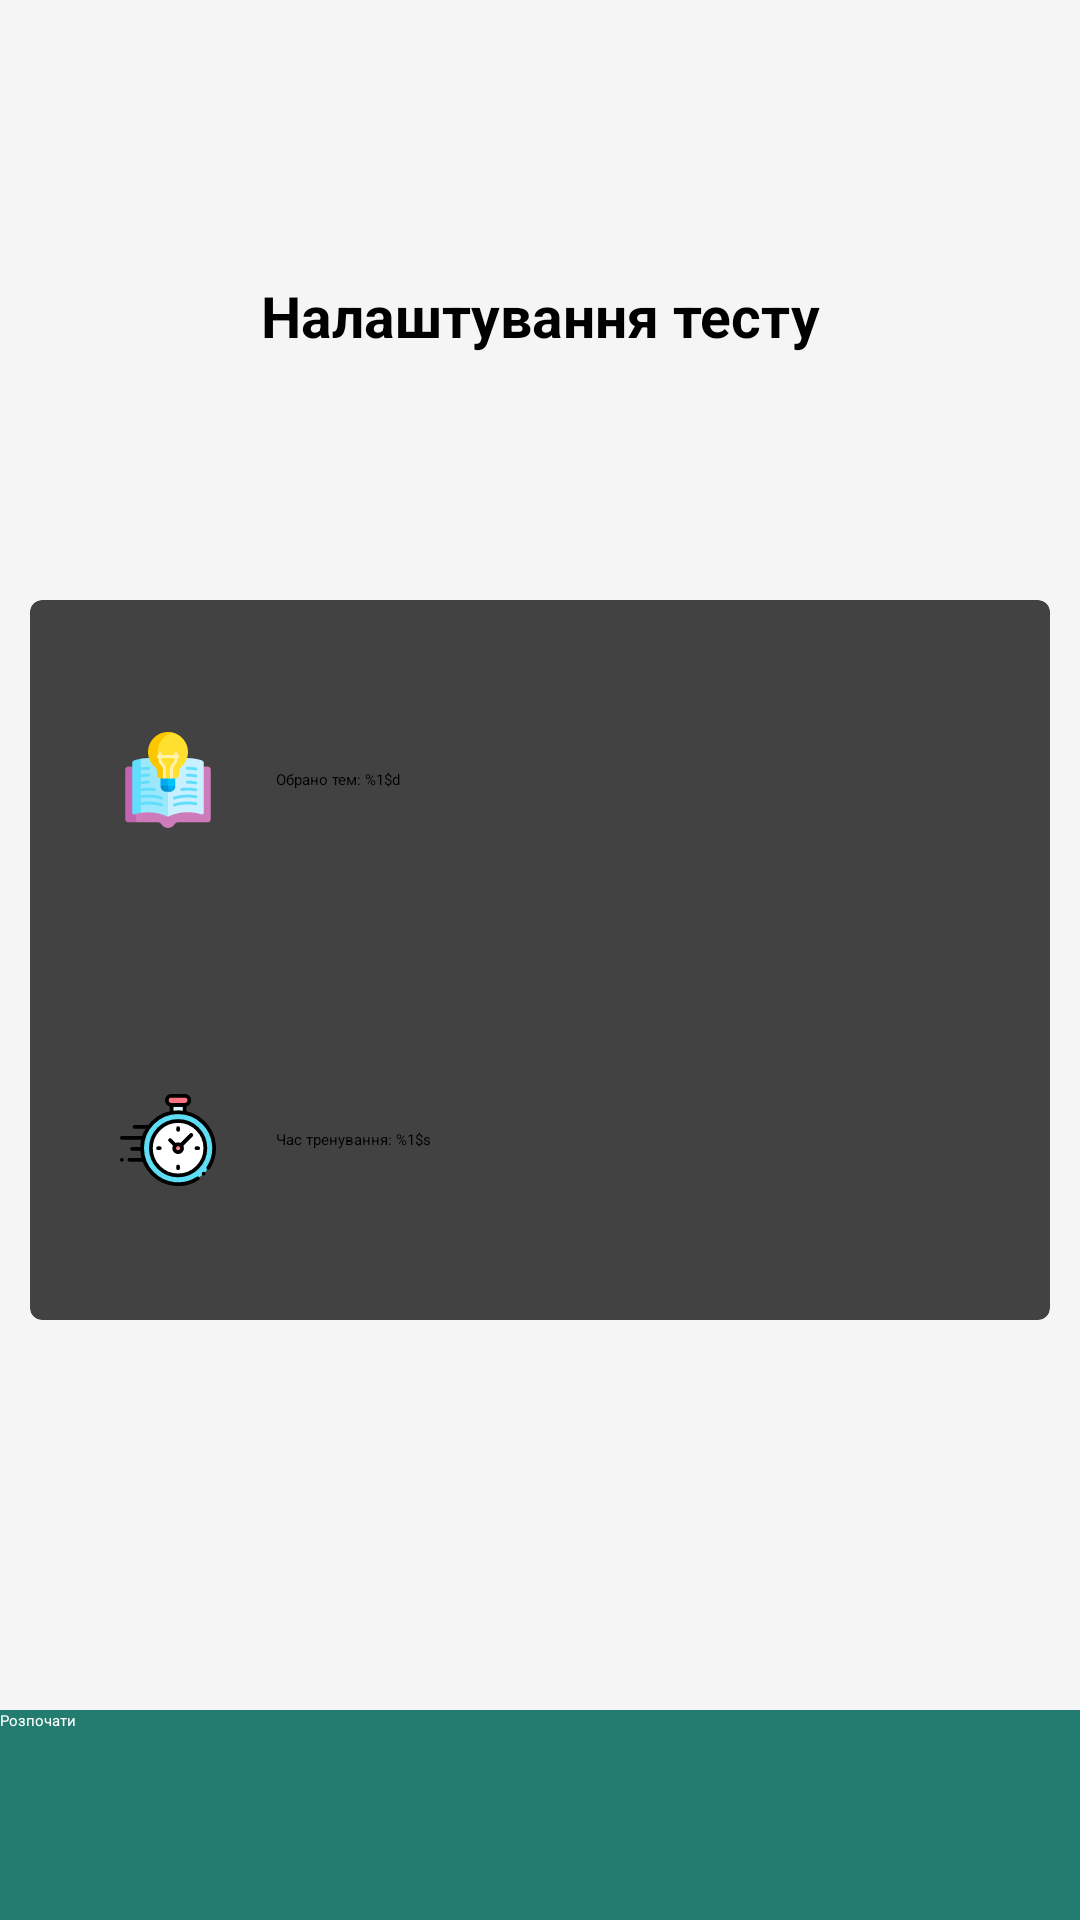

Where to tap for icons on this 1080*1920 app screen, as [x,y]:
clock: [168,1140]
knowledge: [168,780]
